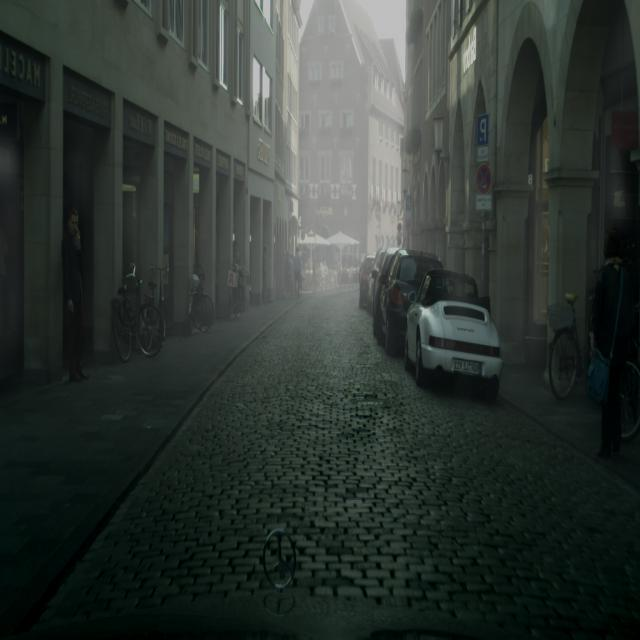car: (111, 262, 164, 362), (549, 292, 584, 400), (619, 339, 640, 441), (188, 268, 214, 336)
person: (588, 229, 635, 458), (62, 206, 90, 382), (292, 246, 302, 298), (283, 250, 293, 298)
truck: (403, 268, 503, 398), (381, 251, 443, 355), (371, 246, 408, 336), (359, 254, 375, 310)
